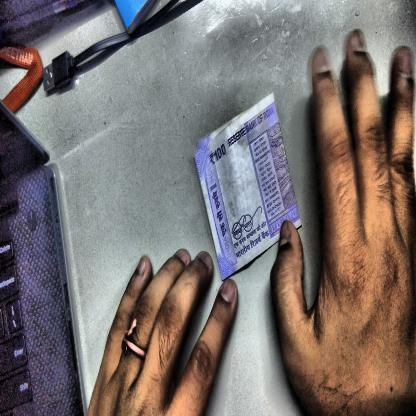Rs100: (208, 141, 228, 167)
